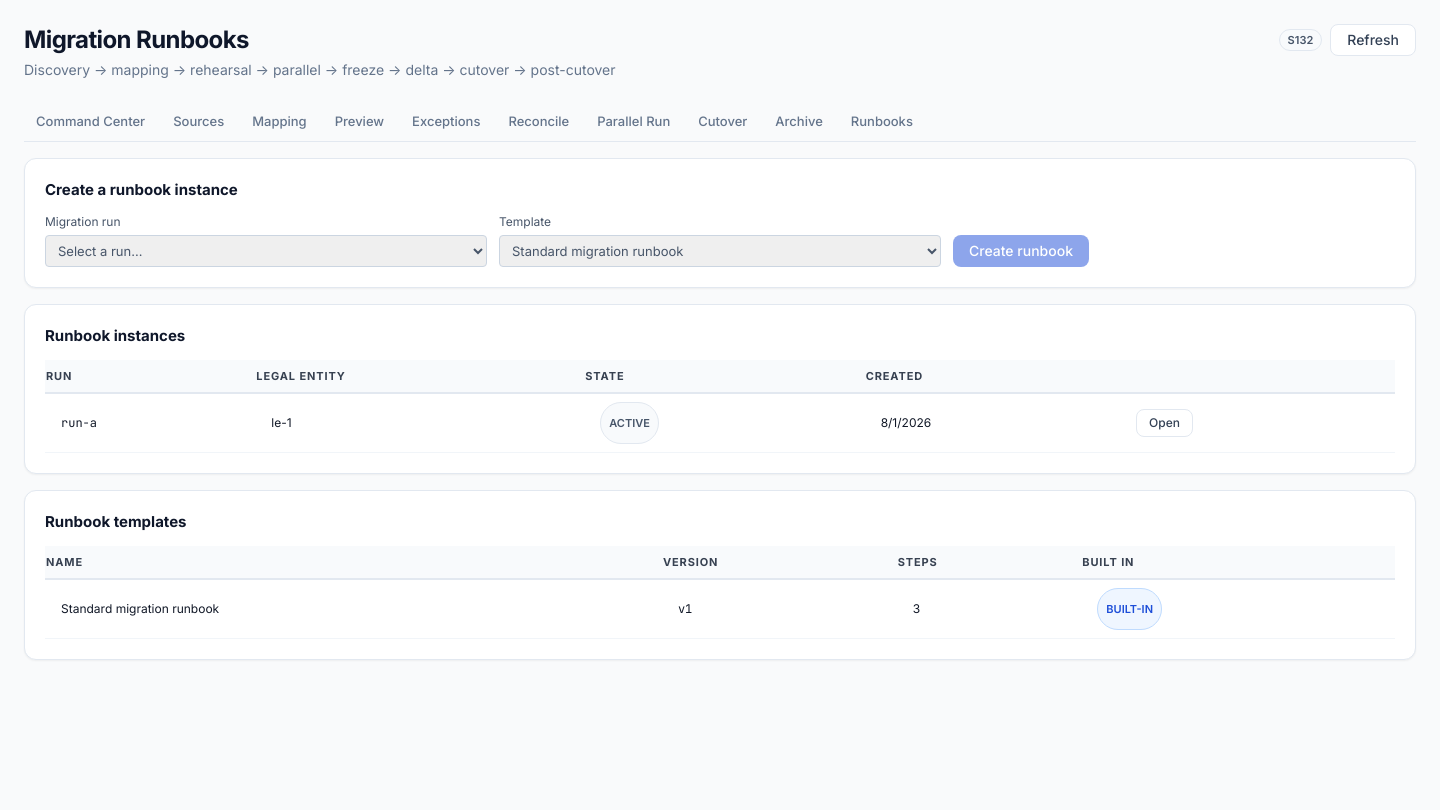
Test: MigrationRunbooks › shows the progress the service computed, not a local count
Click the button with test id "runbook-open-rb-1": (1165, 423) [1136, 409, 1193, 437]
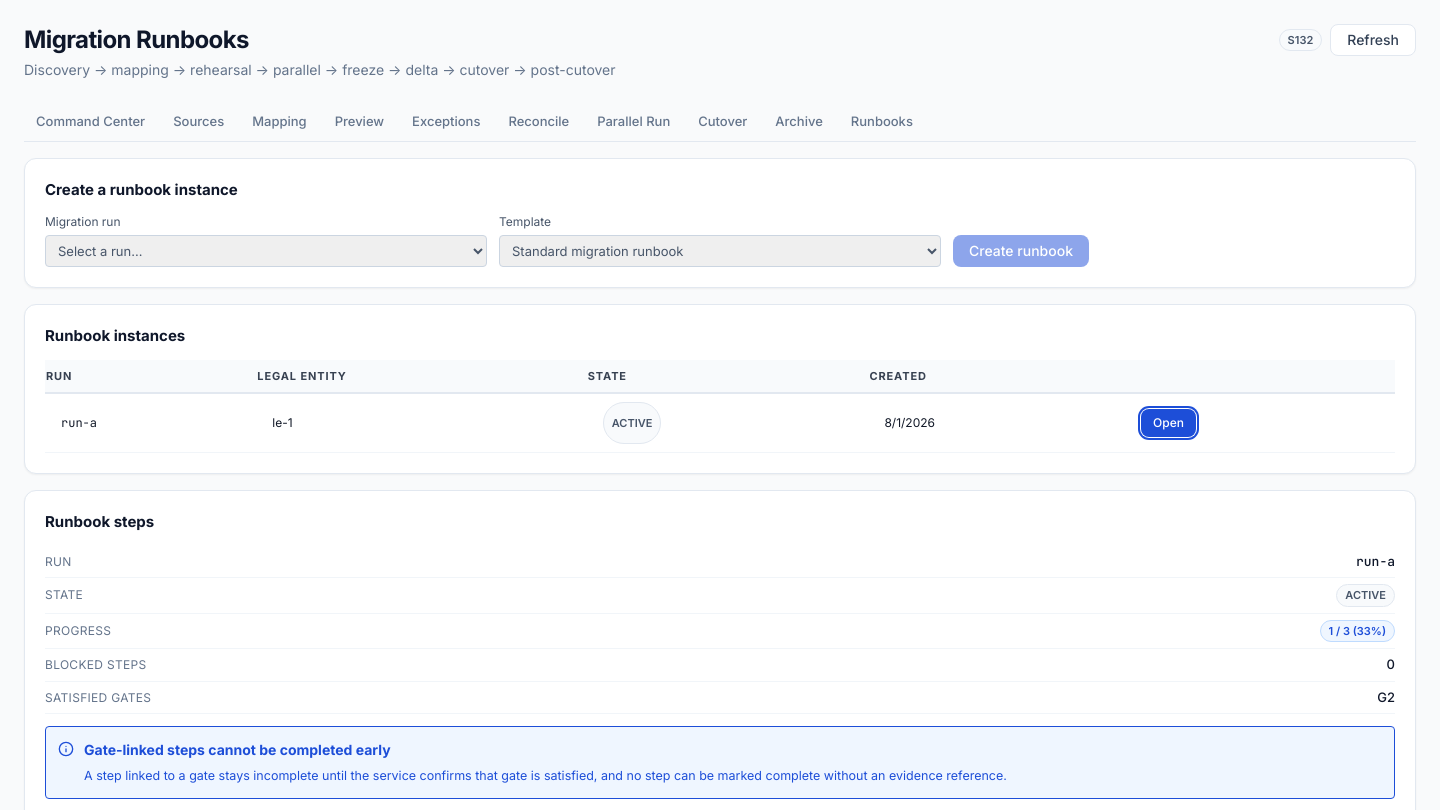
Now the text with test id "runbook-progress" reads "1 / 3 (33%)", box [1320, 620, 1395, 642]
Now the text with test id "runbook-blocked" reads "0", box [1387, 656, 1395, 672]
